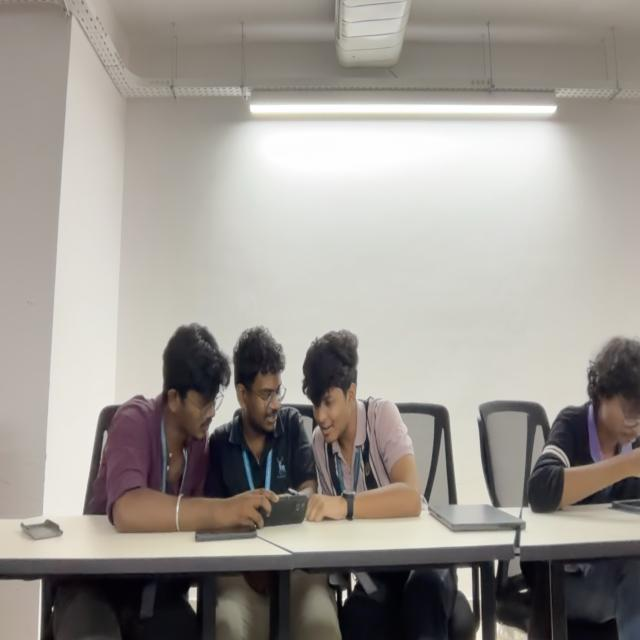Isolated: (525, 336, 640, 510)
socializing: (87, 324, 422, 535)
